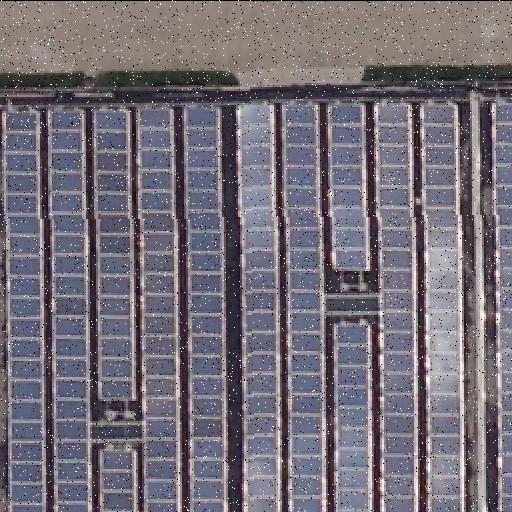solar-panel: (182, 105, 230, 511), (421, 102, 467, 512), (373, 102, 419, 512), (281, 104, 327, 512), (1, 108, 47, 512), (238, 104, 282, 512), (138, 105, 182, 511), (48, 108, 92, 512), (93, 105, 139, 399), (490, 100, 510, 512), (332, 321, 372, 511), (328, 105, 368, 271), (98, 448, 138, 512)
